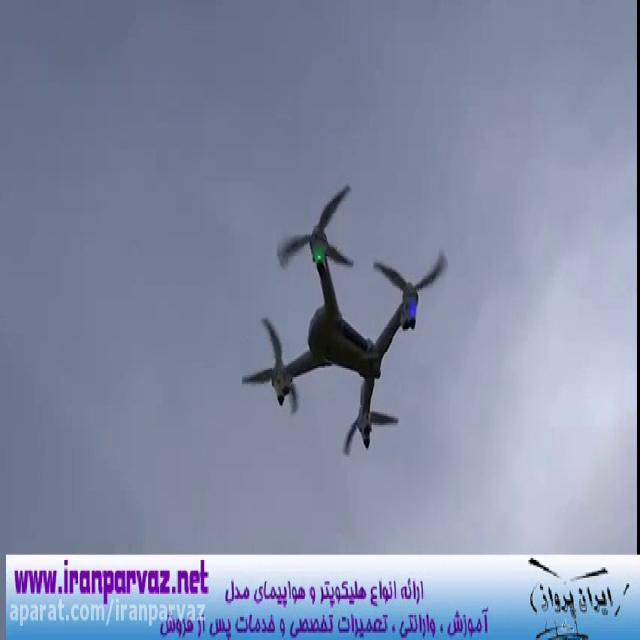drone: (236, 179, 450, 457)
